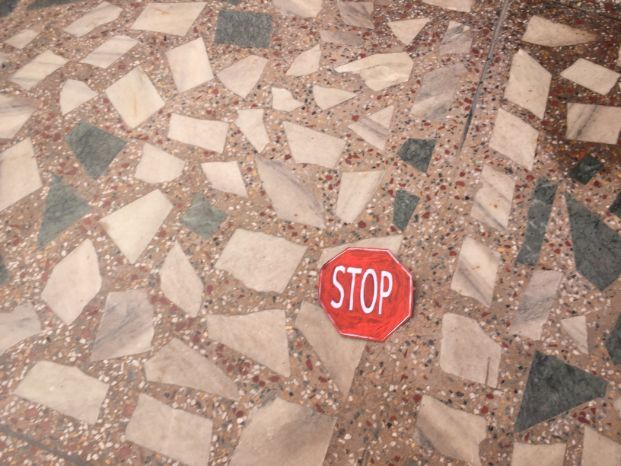stop: (318, 248, 413, 340)
